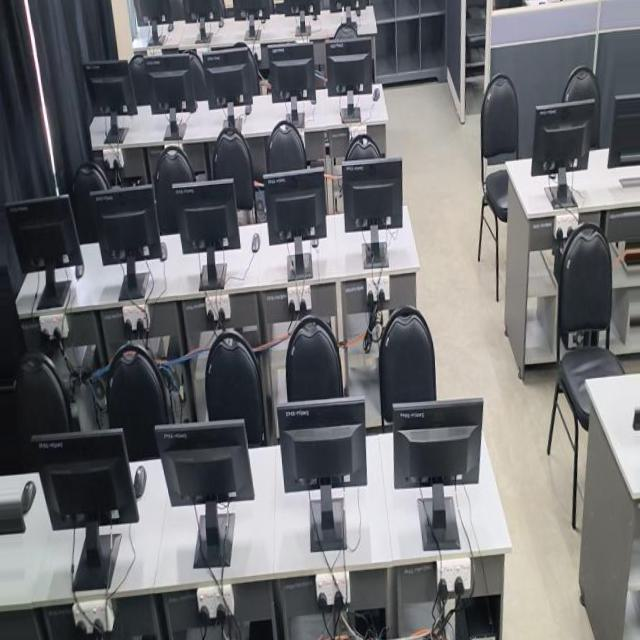Chair: (10, 260, 93, 508), (105, 132, 154, 318), (478, 325, 544, 421), (383, 322, 442, 418), (582, 327, 640, 423), (204, 315, 262, 409), (300, 315, 358, 385), (121, 17, 154, 123), (380, 154, 422, 226), (440, 168, 483, 238), (530, 175, 571, 240), (19, 132, 58, 199), (324, 155, 366, 196), (423, 91, 447, 132), (481, 91, 503, 132), (246, 171, 286, 191), (265, 75, 291, 93)
Cpu: (500, 567, 560, 639), (275, 573, 319, 639), (157, 589, 182, 635)
Monitor: (397, 395, 496, 497), (517, 394, 624, 472), (474, 197, 551, 290), (157, 393, 252, 464), (279, 385, 368, 458), (560, 201, 637, 280), (398, 199, 465, 287), (25, 159, 94, 242), (307, 195, 370, 255), (227, 191, 290, 250), (496, 93, 550, 161), (435, 92, 487, 161), (369, 93, 425, 146), (453, 28, 496, 83), (311, 94, 359, 142), (251, 94, 300, 139), (350, 28, 393, 70), (302, 28, 340, 72), (252, 30, 292, 70), (406, 29, 446, 68), (0, 158, 15, 216)
Mouse: (622, 430, 640, 473), (507, 426, 521, 453), (377, 244, 386, 261), (474, 245, 481, 261), (560, 258, 569, 269), (378, 137, 386, 148), (246, 134, 253, 145), (455, 68, 461, 73), (403, 67, 408, 73)
